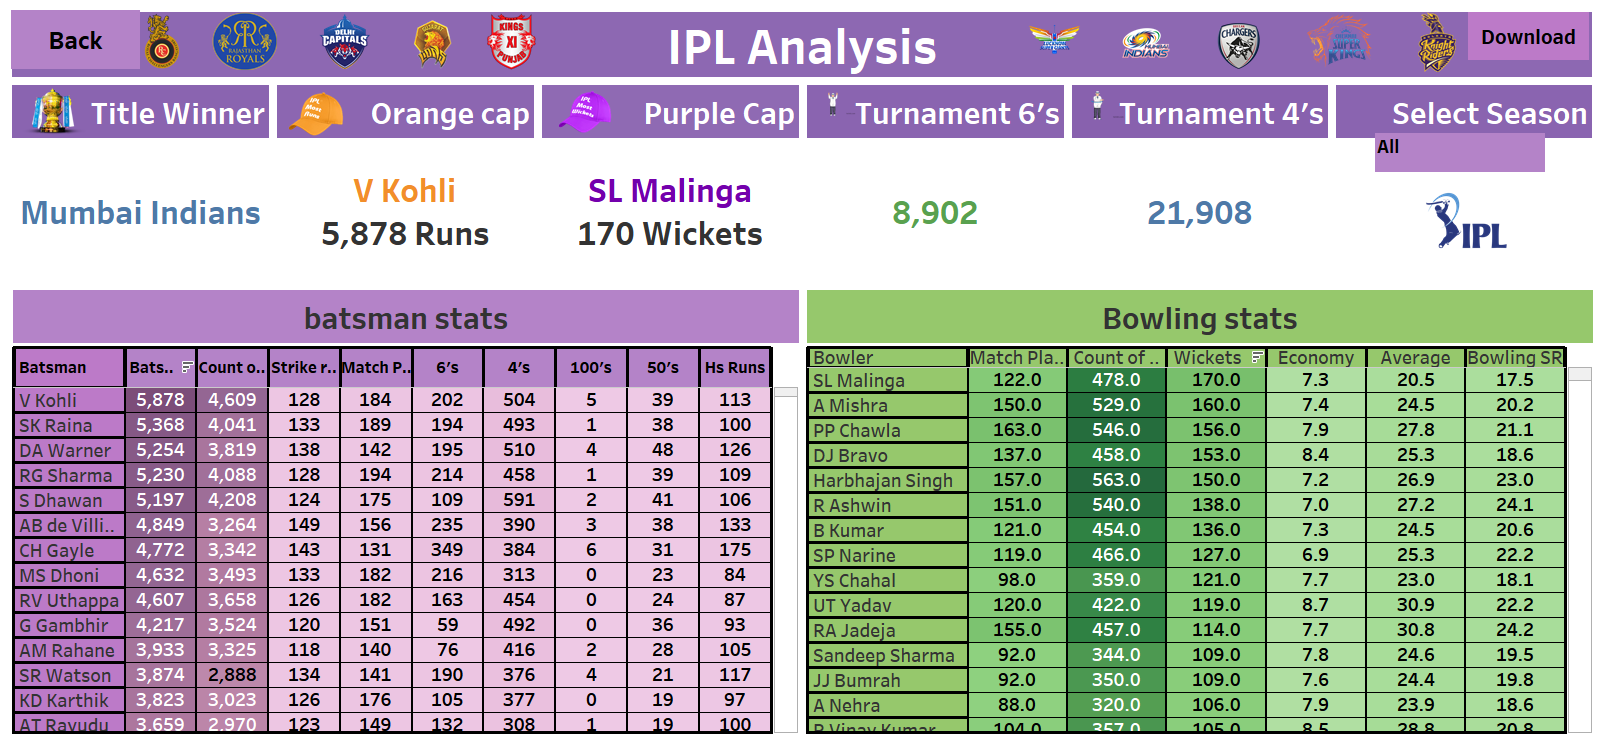

What the dashboard file says about the page in this screenshot:
{"tool":"tableau","page":{"name":"Dashboard 2","canvas":[1000,1000],"units":"permille","ordinal":1},"visuals":[{"type":"title","box":[5,10.7,990,97.9]},{"type":"dashboard-object","box":[7,13.7,80.5,79.4]},{"type":"image","param":"C:/Users/deepa/OneDrive/Desktop/IPL matches tableau/Images/084a80c1fe9391d83f403","box":[66.4,14.9,69,79.4]},{"type":"image","param":"C:/Users/deepa/OneDrive/Desktop/IPL matches tableau/Images/1200px-Kolkata_Knight","box":[868.4,14.9,54.4,81.9]},{"type":"image","param":"C:/Users/deepa/OneDrive/Desktop/IPL matches tableau/Images/1200px-Rajasthan_Roya","box":[132.3,16.1,41.1,78.2]},{"type":"image","param":"C:/Users/deepa/OneDrive/Desktop/IPL matches tableau/Images/Kings_XI_Punjab_logo.","box":[296.2,16.1,44.9,78.2]},{"type":"image","param":"C:/Users/deepa/OneDrive/Desktop/IPL matches tableau/Images/Lucknow_supergiants_l","box":[632.9,16.1,47.5,75.7]},{"type":"dashboard-object","box":[915.1,16.1,75.4,64.5]},{"type":"image","param":"C:/Users/deepa/OneDrive/Desktop/IPL matches tableau/Images/dc.png","box":[193,17.4,44.3,75.7]},{"type":"image","param":"C:/Users/deepa/OneDrive/Desktop/IPL matches tableau/Images/Chennai-Super-Kings-L","box":[813.3,17.4,43,75.7]},{"type":"image","param":"C:/Users/deepa/OneDrive/Desktop/IPL matches tableau/Images/MI.png","box":[696.2,22.3,35.4,69.5]},{"type":"image","param":"C:/Users/deepa/OneDrive/Desktop/IPL matches tableau/Images/Deccan-Chargers-Logo-","box":[748.1,22.3,48.1,73.2]},{"type":"image","param":"C:/Users/deepa/OneDrive/Desktop/IPL matches tableau/Images/Gujarat-Lions-Logo-PN","box":[250,23.6,38.6,69.5]},{"type":"image","param":"C:/Users/deepa/OneDrive/Desktop/IPL matches tableau/Images/FOUR-4-Cricket-Umpire","box":[665.2,103,37.3,76.9]},{"type":"worksheet","title":"Title Winner","mark":"Automatic","box":[5,108.6,165.2,274.8]},{"type":"worksheet","title":"Orange cap ","mark":"Automatic","box":[170.2,108.6,165.2,274.8]},{"type":"worksheet","title":"Purple Cap","mark":"Automatic","box":[335.4,108.6,165.2,274.8]},{"type":"worksheet","title":"Turnament 6's","mark":"Automatic","box":[500.6,108.6,165.2,274.8]},{"type":"worksheet","title":"Turnament 4's","mark":"Automatic","box":[665.8,108.6,164.6,274.8]},{"type":"worksheet","title":"Select Season","mark":"Automatic","box":[830.4,108.6,164.6,274.8]},{"type":"image","param":"C:/Users/deepa/OneDrive/Desktop/IPL matches tableau/Images/SIX-6-Cricket-Umpire-","box":[503.2,109.2,31.7,60.8]},{"type":"image","param":"C:/Users/deepa/OneDrive/Desktop/IPL matches tableau/Images/6d33194b6077c42a8e8f5","box":[337.9,112.6,54.9,76.4]},{"type":"image","param":"C:/Users/deepa/OneDrive/Desktop/IPL matches tableau/Images/01e0f6e9358094b92cae5","box":[169.6,113.9,55.5,79.1]},{"type":"image","param":"C:/Users/deepa/OneDrive/Desktop/IPL matches tableau/Images/ipl-trophy-png-5-Tran","box":[0.6,115.3,63.6,72.4]},{"type":"filter","title":"batsman stats","param":"[federated.0rmiqsd16y9u7r11rd85j1fbi4af].[yr:date:ok]","box":[857,178.7,106.3,52.1]},{"type":"image","param":"C:/Users/deepa/OneDrive/Desktop/IPL matches tableau/Images/IPL-Logo-PNG.png","box":[835.4,233.2,157.6,122.8]},{"type":"worksheet","title":"batsman stats","mark":"Square","rows":["batsman"],"box":[5,383.4,495,605.9]},{"type":"worksheet","title":"Bowling stats","mark":"Square","rows":["bowler"],"box":[500,383.4,495,605.9]}]}

Visuals, with their boxes on the dashboard's canvas, which has no fixed pixel size, in thousandths of its width and height (x1, y1, x2, y2). These are canvas units, not pixel positions in the 1604x746 screenshot, which may show the page scaled, cropped or inside an application window:
title: 5 11 995 109
dashboard-object: 7 14 88 93
image: 66 15 135 94
image: 868 15 923 97
image: 132 16 173 94
image: 296 16 341 94
image: 633 16 680 92
dashboard-object: 915 16 990 81
image: 193 17 237 93
image: 813 17 856 93
image: 696 22 732 92
image: 748 22 796 96
image: 250 24 289 93
image: 665 103 702 180
"Title Winner" worksheet: 5 109 170 383
"Orange cap " worksheet: 170 109 335 383
"Purple Cap" worksheet: 335 109 501 383
"Turnament 6's" worksheet: 501 109 666 383
"Turnament 4's" worksheet: 666 109 830 383
"Select Season" worksheet: 830 109 995 383
image: 503 109 535 170
image: 338 113 393 189
image: 170 114 225 193
image: 1 115 64 188
"batsman stats" filter: 857 179 963 231
image: 835 233 993 356
"batsman stats" worksheet (Square marks): 5 383 500 989
"Bowling stats" worksheet (Square marks): 500 383 995 989
